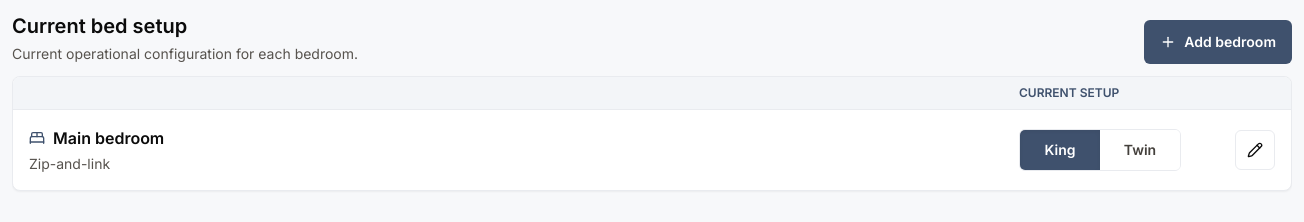
BedroomsSection › restores the previous setup and shows an error when saving fails
Click the radio button labelled "Twin" at (1140, 150), box x1=1100 y1=130 x2=1180 y2=170
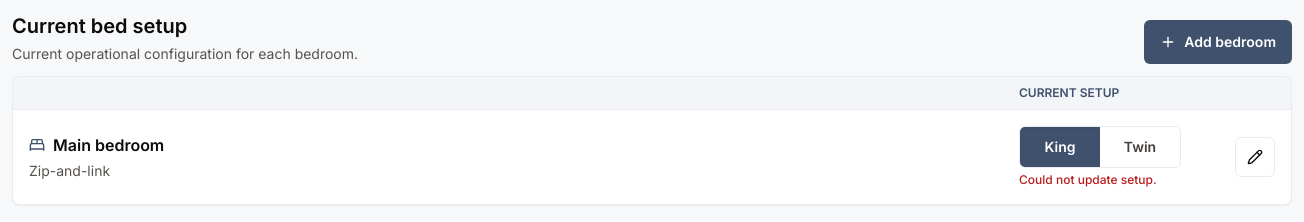
Expected: the text "Could not update setup." is shown, x1=1019 y1=172 x2=1157 y2=187
